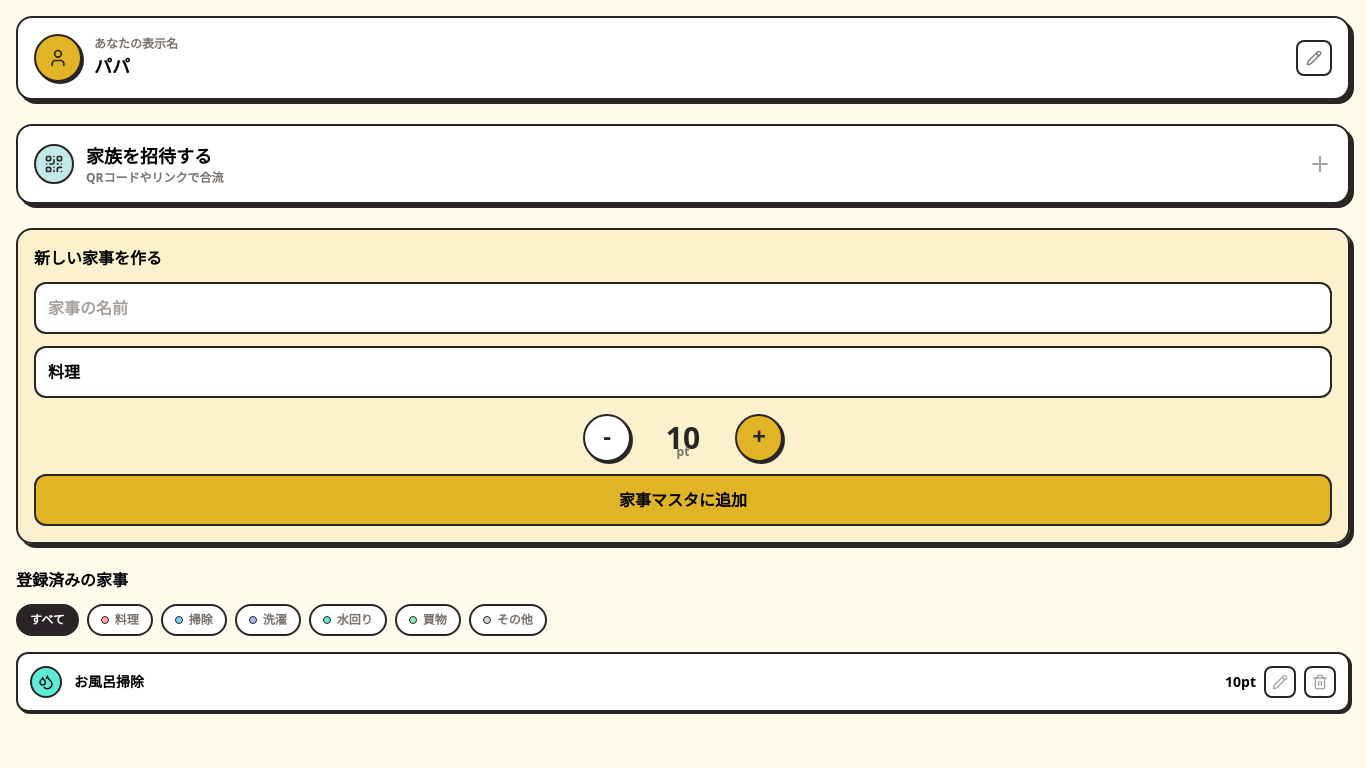
Test: Settings Page › 新しい家事を作成できること
Expected: the text "お風呂掃除" is shown, [74,672,144,692]
Type "新しい家事" into the field with placeholder "家事の名前" at point(683, 308), box [34,282,1332,334]
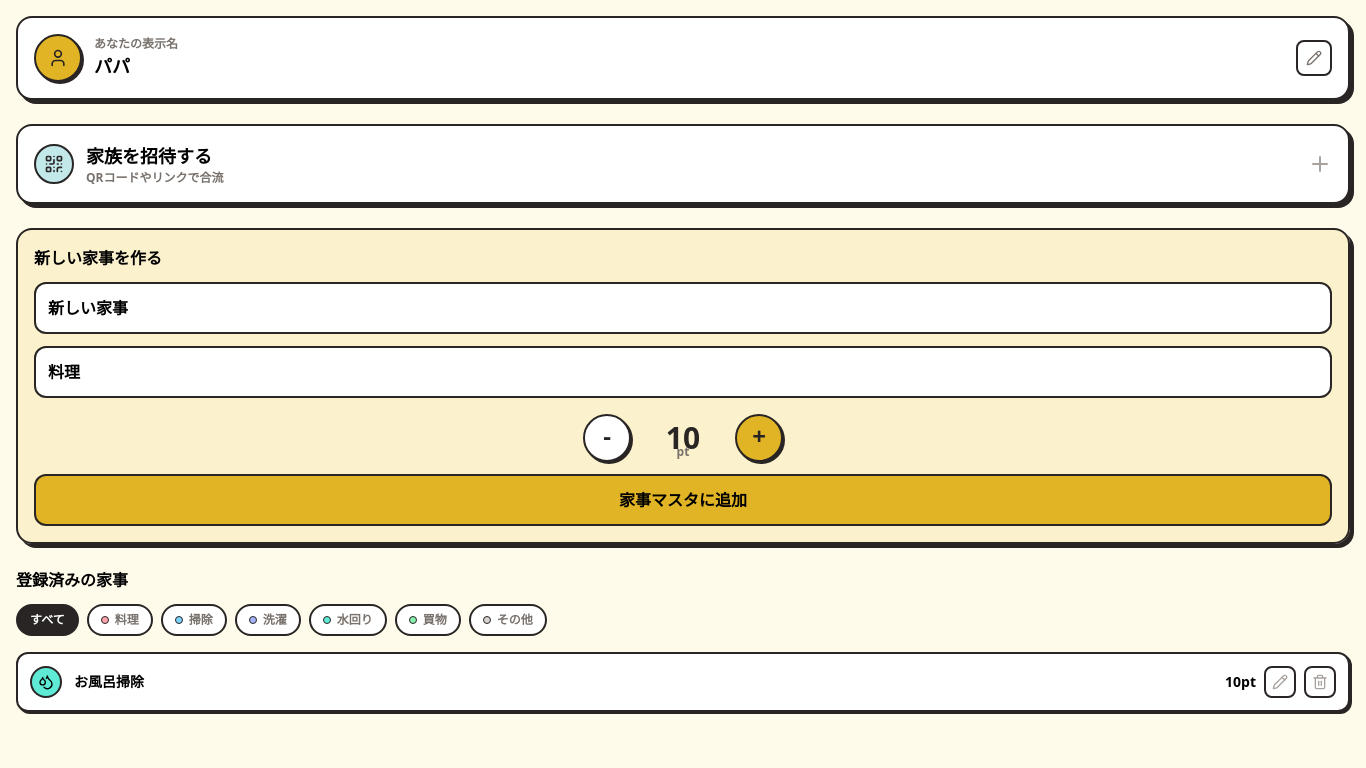
Replace the text in the number field showing "10" with "20" at point(683, 438), box [643,420,723,456]
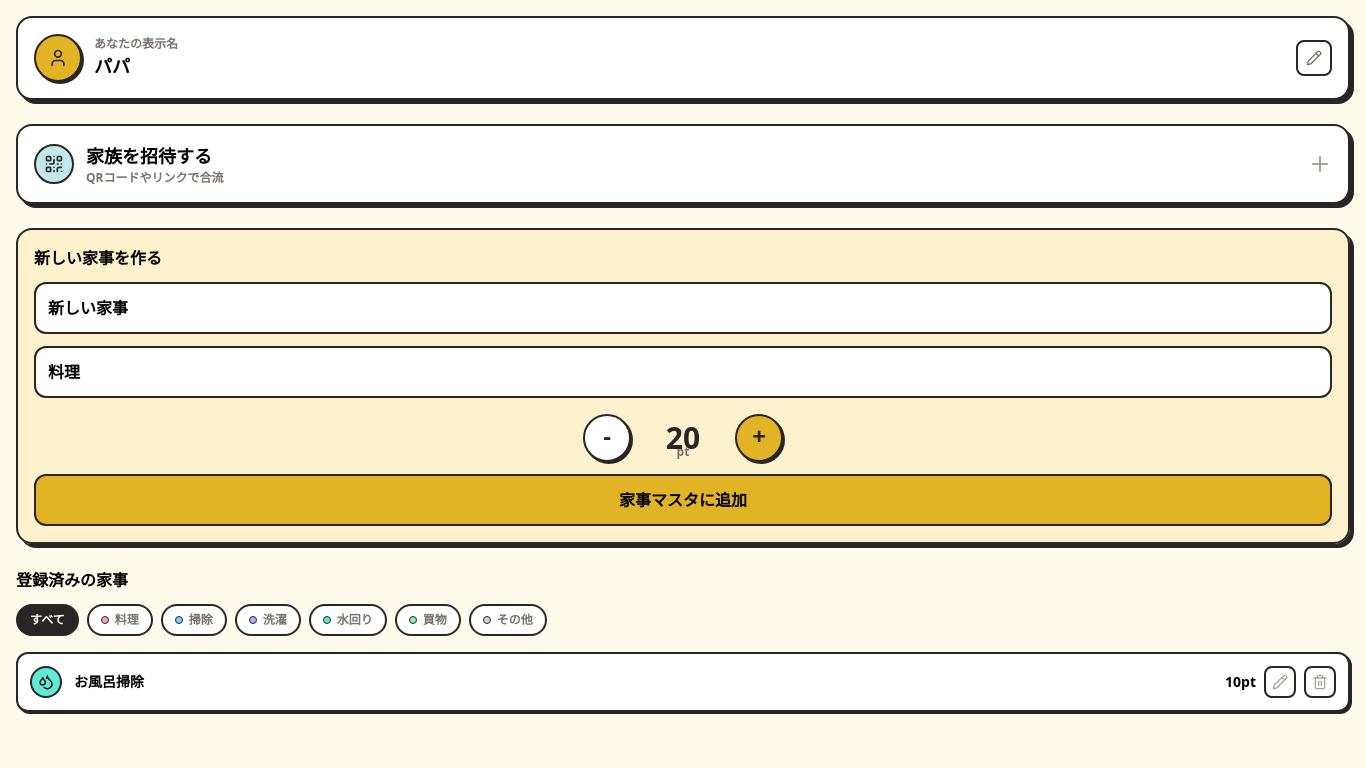
Click the button "家事マスタに追加" at point(683, 500), box [34,474,1332,526]
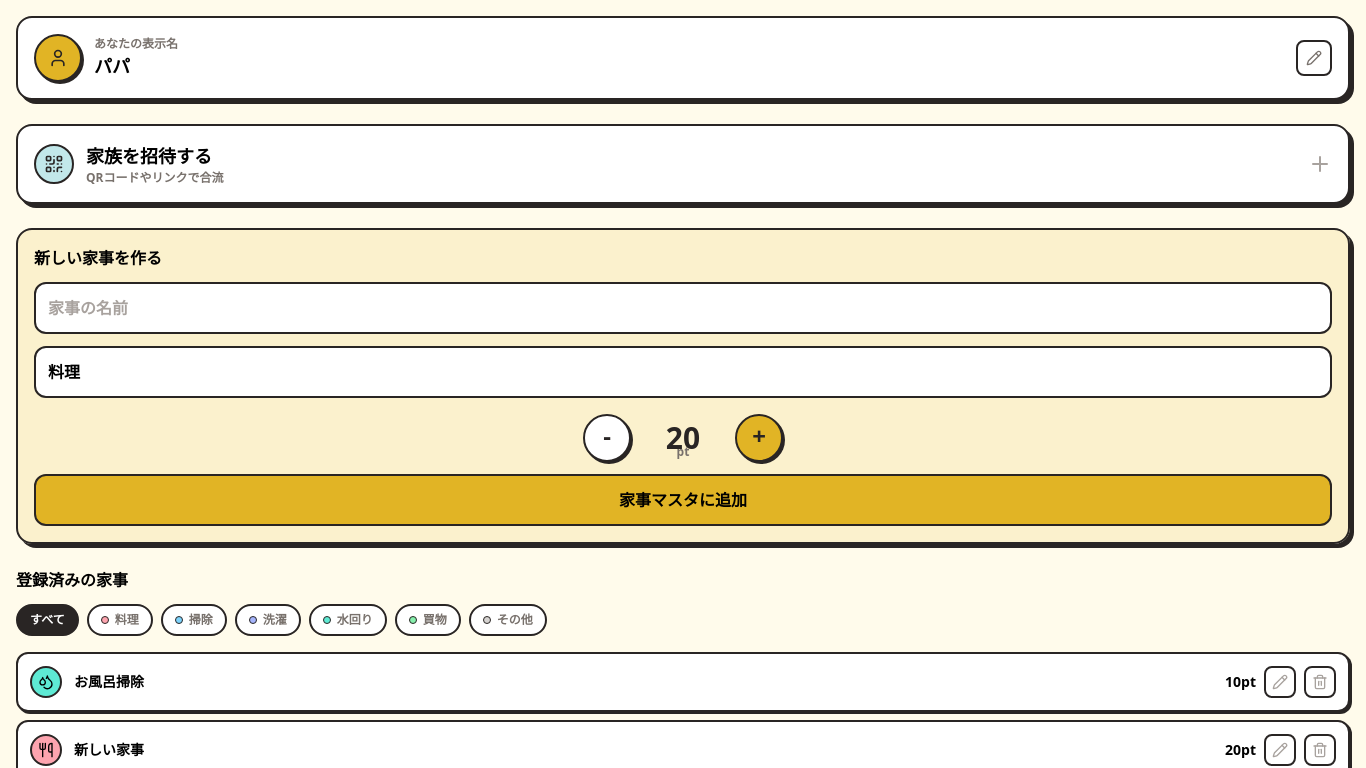
Now the text "新しい家事" is shown, box [74,740,144,760]
Now the text "20pt" is shown, box [1225,740,1256,760]
